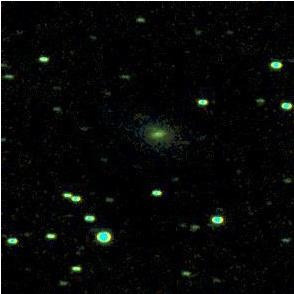star: (173, 128, 203, 158)
